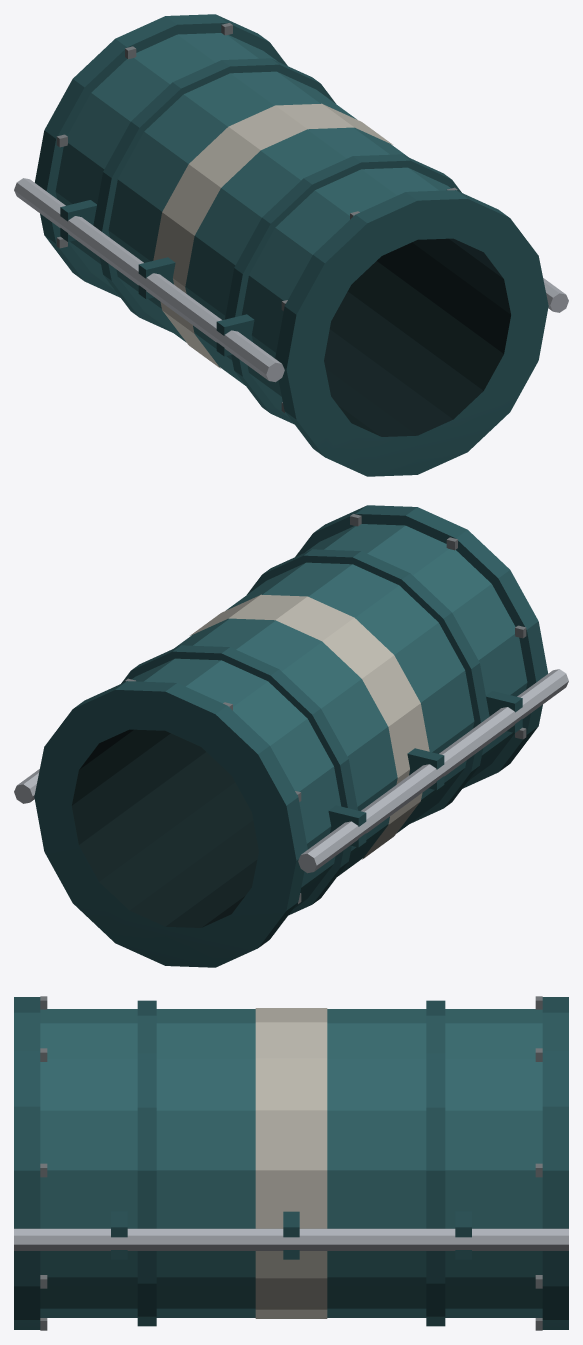
Rendered from pipe.coolant.teal.glb.
3 renders of one model, top to bottom at view 1: azimuth 30°, elevation 25°; view 2: azimuth 150°, elevation 25°; view 3: azimuth 270°, elevation 25°, orthographic. The views are drawn at different scales.
Visible parts, largest first — view 1: pipe_coolant_teal; view 2: pipe_coolant_teal; view 3: pipe_coolant_teal.
Boxes of the visible parts, x1,y1,x2,y2 form: pipe_coolant_teal: (14,14,568,476); pipe_coolant_teal: (14,505,568,967); pipe_coolant_teal: (14,996,568,1330).
Size of what is drawn, in the model's own units: 1.62 by 1.4 by 2.33.
